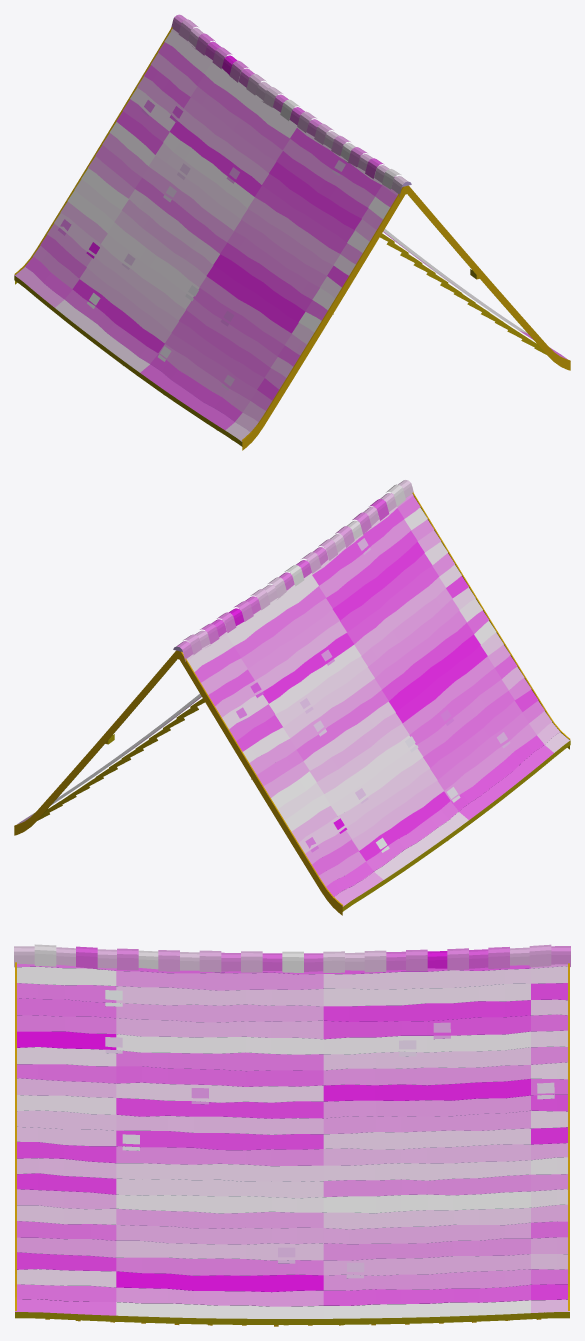
The model's file is roof_p_8x10.glb.
3 views of the same model, one above another, from view 1: azimuth 30°, elevation 25°; view 2: azimuth 150°, elevation 25°; view 3: azimuth 270°, elevation 25° (orthographic). The views are drawn at different scales.
Visible parts, largest first — view 1: roof_p_8x10; view 2: roof_p_8x10; view 3: roof_p_8x10.
Boxes of the visible parts, x1,y1,x2,y2 form: roof_p_8x10: (14, 14, 570, 450); roof_p_8x10: (14, 480, 570, 915); roof_p_8x10: (14, 944, 570, 1326).
Size of the model in its own units: 8.92 by 6.06 by 10.74.
